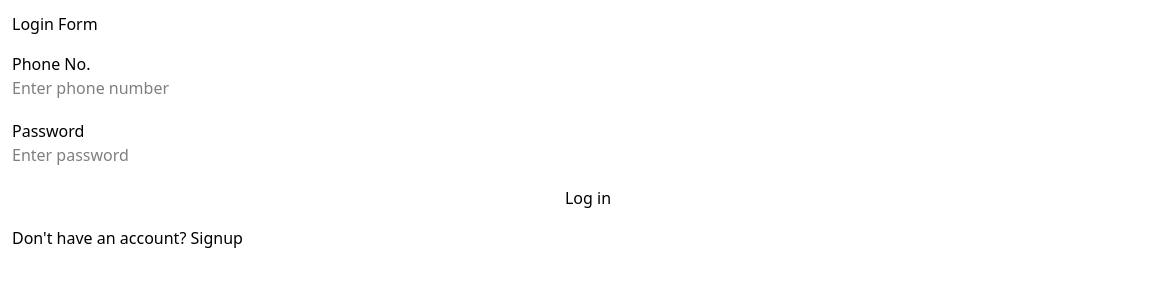
it: Login Component › shows validation error when phone is empty
Click the button "Log in": coordinates (588, 198) [12,186,1164,210]
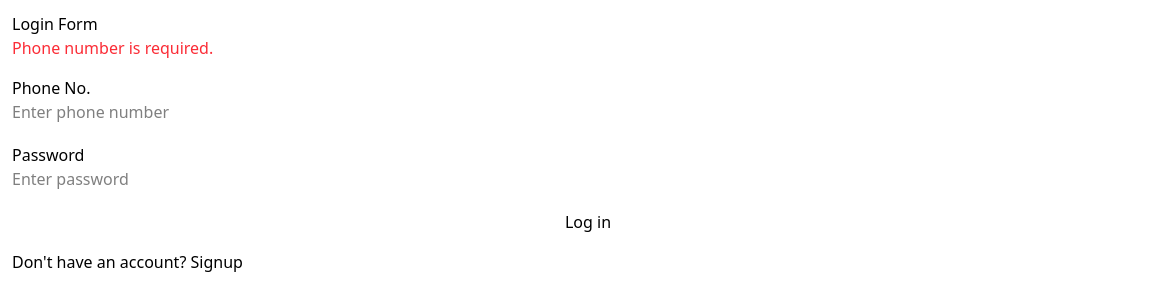
Result: the text "Phone number is required." is shown at [12,37,213,59]
